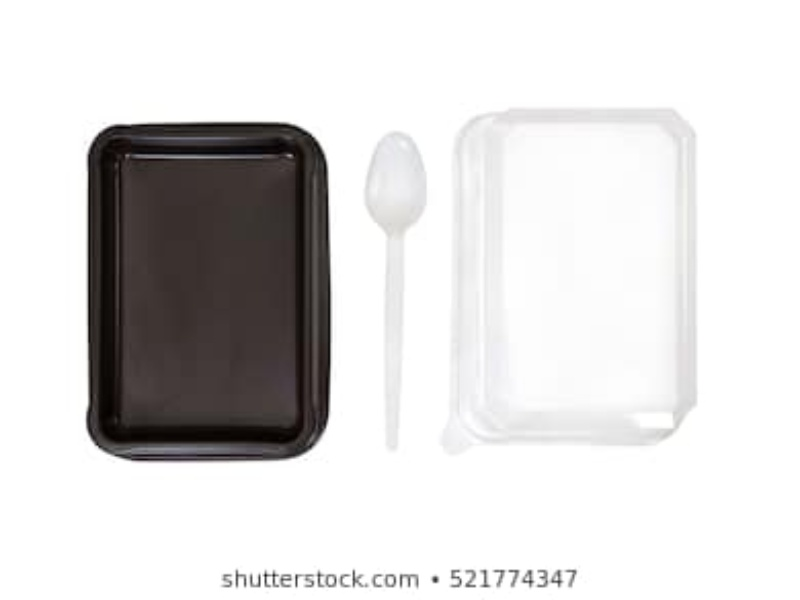plastic-container: (450, 103, 711, 452)
plastic-silverware: (363, 131, 429, 451)
plastic-tray: (79, 120, 333, 465)
